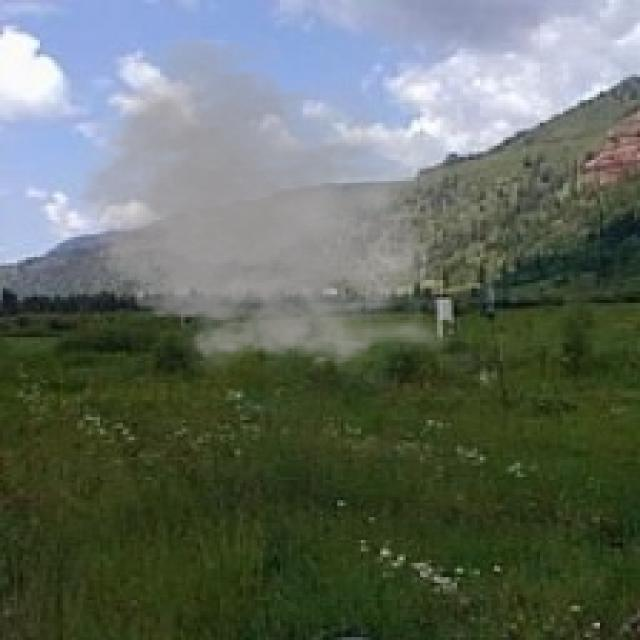Smoke: (54, 26, 469, 383)
